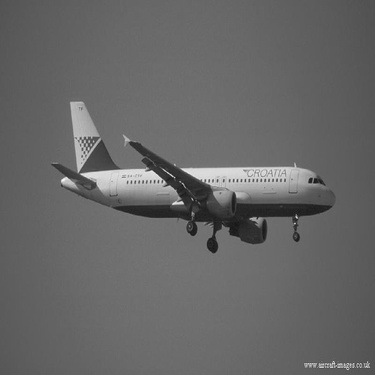airplane: (48, 93, 336, 252)
